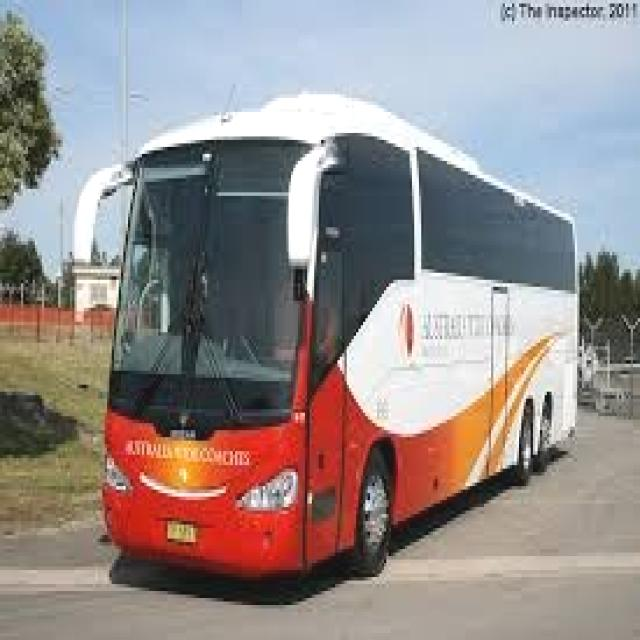bus: (51, 82, 594, 598)
